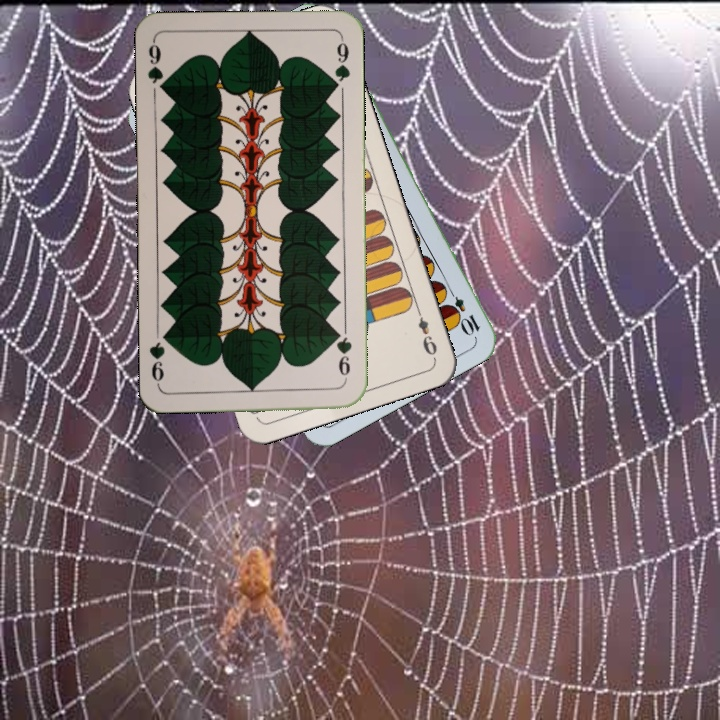E10: (442, 283, 483, 338)
E9: (412, 303, 440, 361)
G9: (143, 37, 170, 96), (332, 325, 355, 384)
